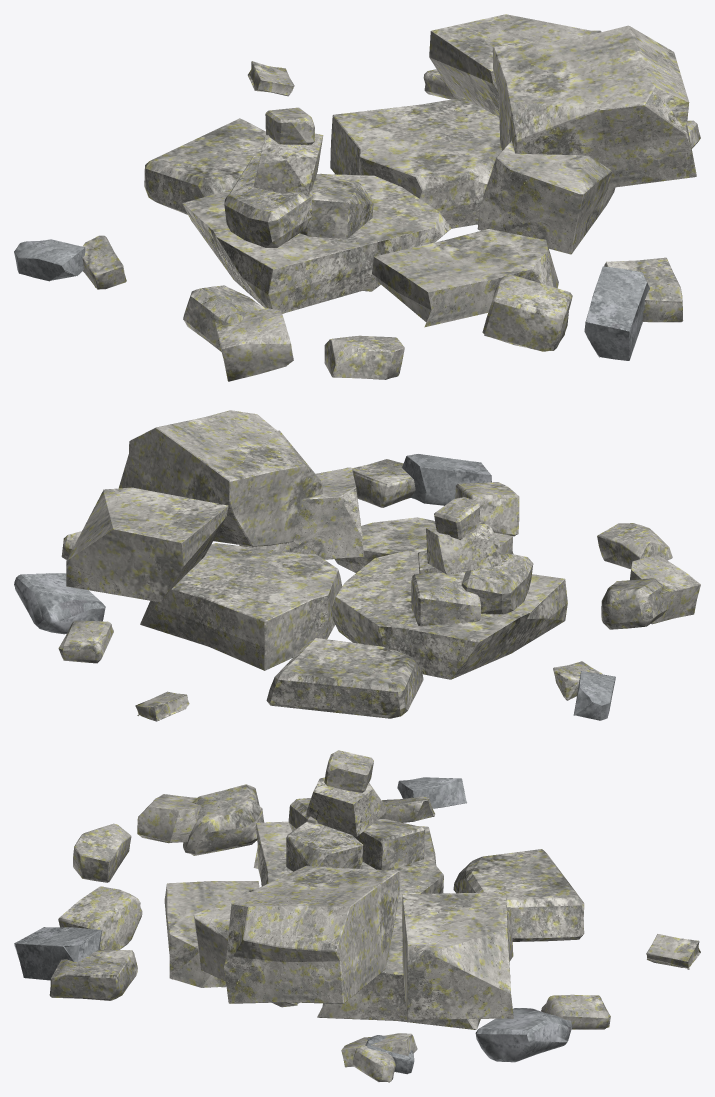
The model's file is cima-espalda-aneto.glb.
3 renders of one model, top to bottom at view 1: azimuth 30°, elevation 25°; view 2: azimuth 150°, elevation 25°; view 3: azimuth 270°, elevation 25°, orthographic. The views are drawn at different scales.
Visible parts, largest first — view 1: hito_granito_liquen, bloque6, bloque9, bloque2, bloque1, bloque12, bloque0, bloque4, bloque5, bloque11, bloque7; view 2: hito_granito_liquen, bloque8, bloque9, bloque12, bloque2, bloque1, bloque0, bloque6, bloque7, bloque4, bloque11, bloque5; view 3: hito_granito_liquen, bloque12, bloque8, bloque0, bloque6, bloque9, bloque1, bloque2, bloque7, bloque4, bloque11, bloque13 (+3 smaller).
Part boxes in pixels (x1=…): hito_granito_liquen: x1=144, y1=14, x2=696, y2=327; bloque6: x1=482, y1=274, x2=572, y2=351; bloque9: x1=584, y1=266, x2=649, y2=360; bloque2: x1=215, y1=308, x2=293, y2=381; bloque1: x1=324, y1=335, x2=404, y2=379; bloque12: x1=183, y1=285, x2=265, y2=351; bloque0: x1=604, y1=257, x2=683, y2=322; bloque4: x1=14, y1=239, x2=85, y2=281; bloque5: x1=82, y1=235, x2=126, y2=289; bloque11: x1=247, y1=61, x2=294, y2=96; bloque7: x1=423, y1=69, x2=455, y2=99; hito_granito_liquen: x1=66, y1=410, x2=567, y2=718; bloque8: x1=14, y1=573, x2=105, y2=634; bloque9: x1=401, y1=454, x2=491, y2=505; bloque12: x1=601, y1=578, x2=668, y2=629; bloque2: x1=630, y1=555, x2=700, y2=624; bloque1: x1=597, y1=523, x2=672, y2=569; bloque0: x1=352, y1=459, x2=415, y2=507; bloque6: x1=455, y1=482, x2=519, y2=536; bloque7: x1=58, y1=620, x2=113, y2=663; bloque4: x1=573, y1=671, x2=615, y2=720; bloque11: x1=135, y1=691, x2=189, y2=721; bloque5: x1=553, y1=661, x2=602, y2=700; hito_granito_liquen: x1=164, y1=750, x2=584, y2=1029; bloque12: x1=183, y1=784, x2=264, y2=855; bloque8: x1=475, y1=1008, x2=572, y2=1062; bloque0: x1=49, y1=950, x2=137, y2=1000; bloque6: x1=58, y1=886, x2=142, y2=949; bloque9: x1=14, y1=927, x2=101, y2=980; bloque1: x1=73, y1=823, x2=131, y2=882; bloque2: x1=137, y1=794, x2=201, y2=843; bloque7: x1=541, y1=994, x2=610, y2=1029; bloque4: x1=397, y1=777, x2=466, y2=808; bloque11: x1=646, y1=934, x2=700, y2=969; bloque13: x1=352, y1=1046, x2=395, y2=1082.
Size of the model in its own units: 4.31 by 1.04 by 4.31.
2 materials, 2 textured.
